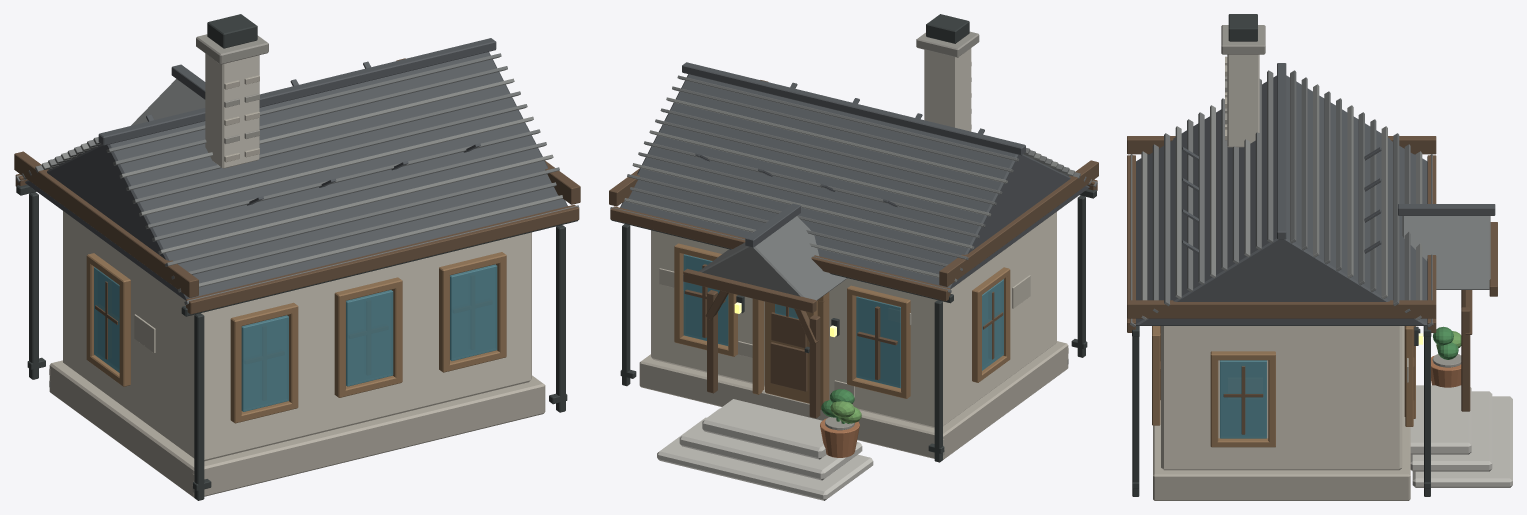
Rendered from residential_stucco_cottage_reference.glb.
The picture shows the model from 3 angles, left to right: view 1: azimuth 30°, elevation 25°; view 2: azimuth 150°, elevation 25°; view 3: azimuth 270°, elevation 25°; orthographic projection. The views are drawn at different scales.
Parts seen in each view (by area): view 1: main_slate_gable_roof, single_story_stucco_body, continuous_stone_plinth, rear_wood_fascia, stone_chimney_stack, roof_ridge_cap, rear_middle_window_glass, rear_right_window_glass, rear_left_window_glass, right_gable_verge, right_side_window_glass, downspout003 (+31 smaller); view 2: main_slate_gable_roof, single_story_stucco_body, continuous_stone_plinth, front_porch_gable_roof, lower_step, upper_step, roof_ridge_cap, front_wood_fascia, stone_chimney_stack, middle_step, front_right_window_glass, right_gable_verge (+37 smaller); view 3: main_slate_gable_roof, single_story_stucco_body, continuous_stone_plinth, left_gable_verge, front_porch_gable_roof, left_side_window_glass, upper_step, lower_step, stone_chimney_stack, middle_step, roof_ridge_cap, rear_wood_fascia (+41 smaller).
Part boxes in pixels (<box>): main_slate_gable_roof: <box>25,52,567,300</box>; single_story_stucco_body: <box>63,211,531,461</box>; continuous_stone_plinth: <box>49,360,545,497</box>; rear_wood_fascia: <box>186,204,579,314</box>; stone_chimney_stack: <box>205,53,259,168</box>; roof_ridge_cap: <box>98,38,496,145</box>; rear_middle_window_glass: <box>346,290,393,386</box>; rear_right_window_glass: <box>241,315,288,411</box>; rear_left_window_glass: <box>450,264,497,360</box>; right_gable_verge: <box>14,151,198,297</box>; right_side_window_glass: <box>94,267,119,372</box>; downspout003: <box>194,313,204,500</box>; main_slate_gable_roof: <box>620,74,1089,289</box>; single_story_stucco_body: <box>651,212,1056,428</box>; continuous_stone_plinth: <box>639,341,1068,459</box>; front_porch_gable_roof: <box>699,216,847,300</box>; lower_step: <box>657,417,873,500</box>; upper_step: <box>702,399,826,459</box>; roof_ridge_cap: <box>682,62,1025,155</box>; front_wood_fascia: <box>610,206,950,301</box>; stone_chimney_stack: <box>924,48,971,131</box>; middle_step: <box>679,408,862,480</box>; front_right_window_glass: <box>856,296,900,388</box>; right_gable_verge: <box>939,160,1098,286</box>; main_slate_gable_roof: <box>1136,75,1427,325</box>; single_story_stucco_body: <box>1161,326,1402,470</box>; continuous_stone_plinth: <box>1153,326,1410,500</box>; left_gable_verge: <box>1127,300,1436,318</box>; front_porch_gable_roof: <box>1402,216,1490,289</box>; left_side_window_glass: <box>1220,360,1266,438</box>; upper_step: <box>1410,385,1471,454</box>; lower_step: <box>1412,396,1512,487</box>; stone_chimney_stack: <box>1227,54,1259,147</box>; middle_step: <box>1410,391,1492,471</box>; roof_ridge_cap: <box>1277,63,1286,239</box>; rear_wood_fascia: <box>1127,155,1135,332</box>.
Size of the model in its own units: 1.36 by 1.46 by 1.31.
